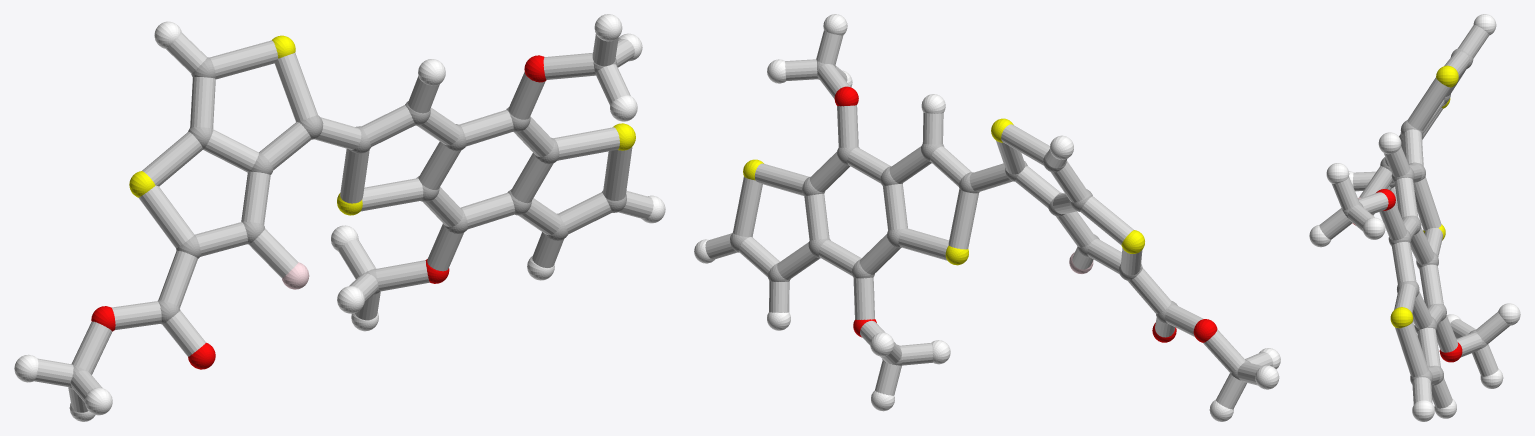
File: color.glb
3 views of the same model, side by side, from view 1: azimuth 30°, elevation 25°; view 2: azimuth 150°, elevation 25°; view 3: azimuth 270°, elevation 25° (orthographic). The views are drawn at different scales.
Visible parts, largest first — view 1: grp15205, grp8689, grp1, grp13395, grp7241; view 2: grp15205, grp8689, grp1, grp7241, grp13395; view 3: grp15205, grp8689, grp1, grp7241, grp13395.
Part boxes in pixels (x1,y1,x2,y2): grp15205: (34,33,653,412); grp8689: (14,14,665,421); grp1: (69,57,626,389); grp13395: (91,55,546,369); grp7241: (129,35,635,215); grp15205: (705,30,1272,409); grp8689: (694,14,1280,421); grp1: (730,61,1250,380); grp7241: (743,118,1144,265); grp13395: (834,86,1217,342); grp15205: (1319,25,1509,408); grp8689: (1309,14,1520,421); grp1: (1342,48,1487,385); grp7241: (1390,65,1458,328); grp13395: (1353,189,1462,362).
Bounding box in the file's own units: 16.36 × 8.54 × 5.58.
